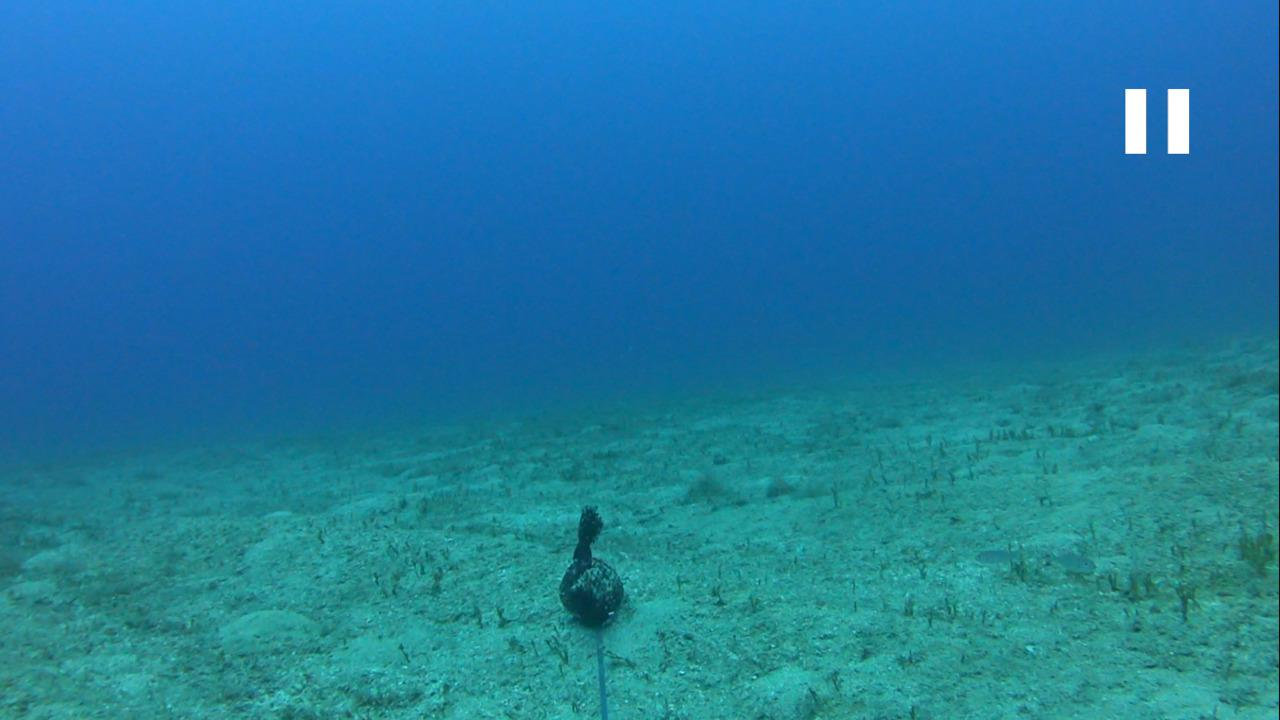dactylopterus: (648, 402, 679, 431)
pagellus: (1042, 546, 1100, 576), (975, 544, 1034, 568)
